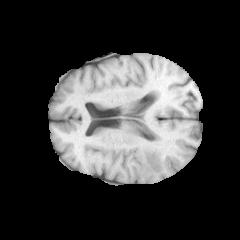glioma: (141, 138, 163, 174)
